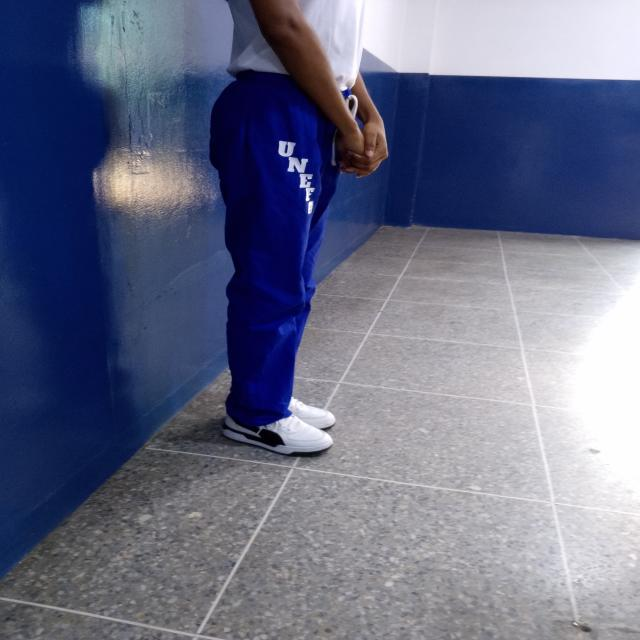uniforme_superior: (208, 71, 352, 428)
